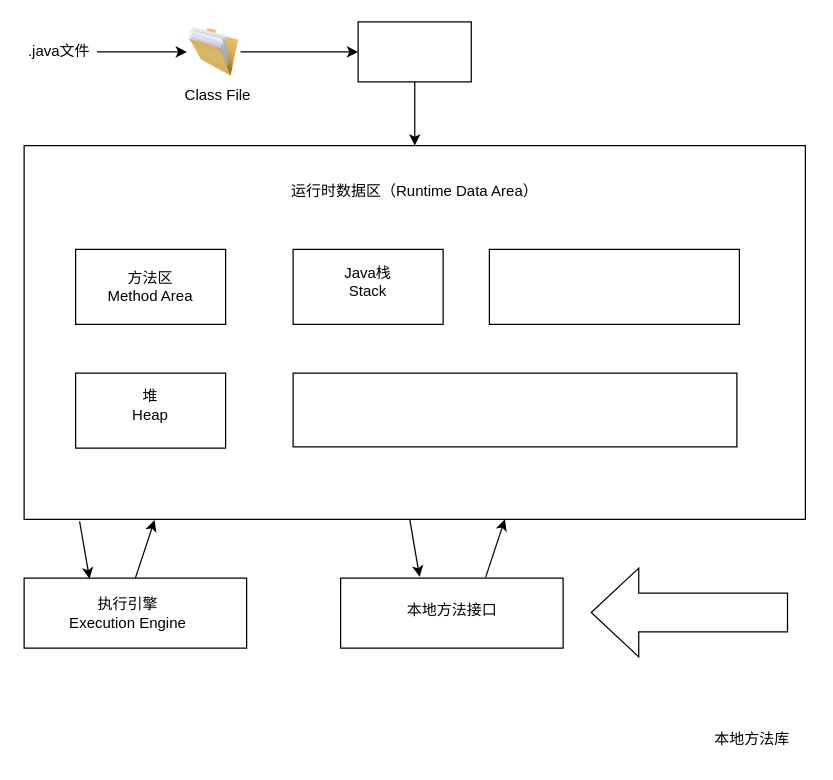
Some shapes in this 833 by 780 pixel diagram are drawn without their labels. The centre of each missing label's shape, as x and y in pixels:
"本地方法栈 Native Method Stack" goes at point 613,286.
"程序计数器 Program Counter" goes at point 514,409.
"类装载器 Class Loader" goes at point 414,51.
